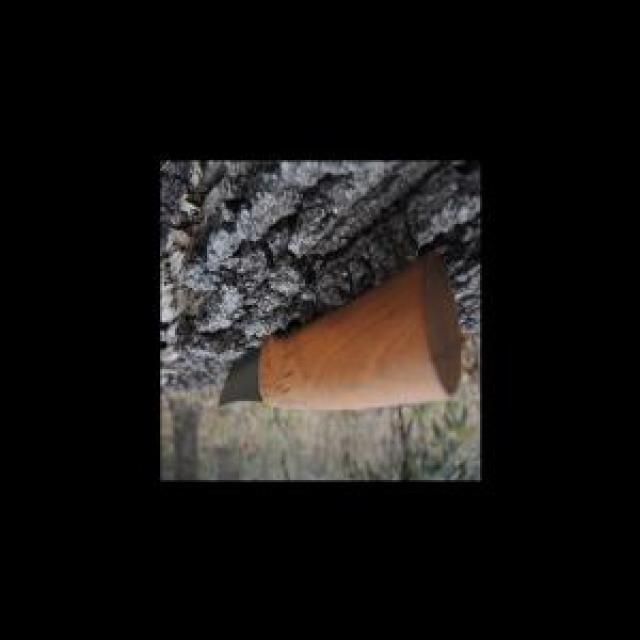knife: (213, 252, 466, 411)
